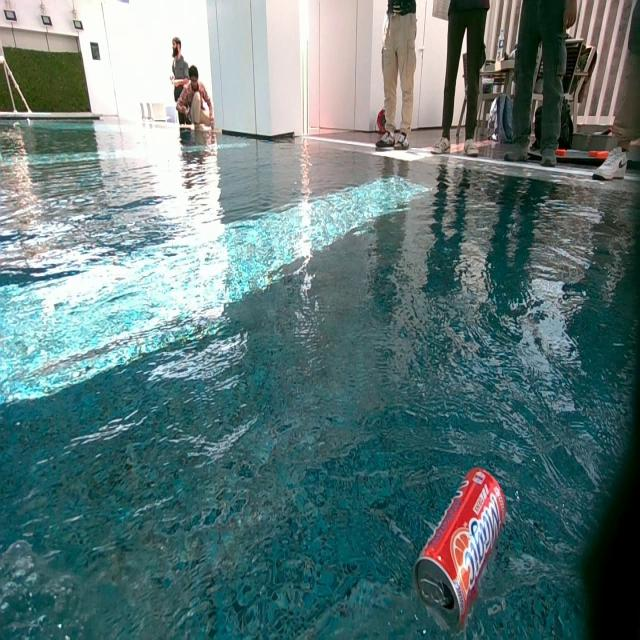Cans: (411, 466, 506, 632), (27, 118, 32, 124)
